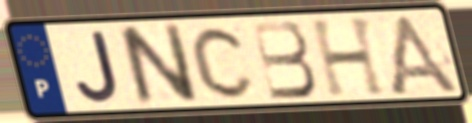A: (384, 11, 465, 96)
B: (248, 18, 321, 102)
C: (188, 23, 259, 101)
H: (306, 14, 391, 100)
J: (74, 28, 123, 105)
N: (113, 21, 202, 109)
